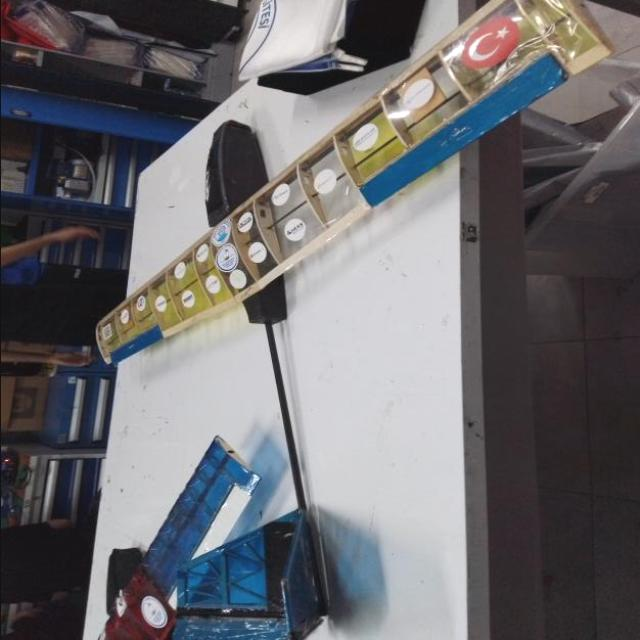plane: (95, 0, 616, 640), (87, 437, 260, 640)
